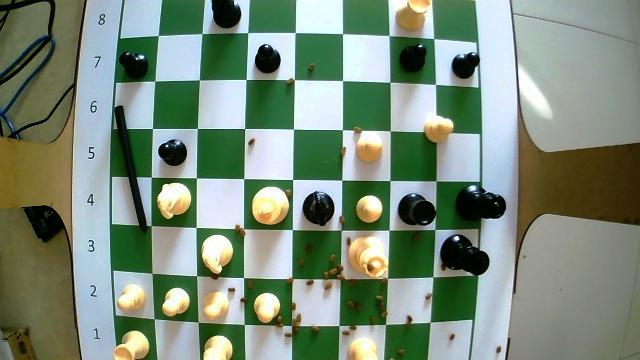piece: (441, 236, 488, 275), (456, 186, 505, 219), (349, 237, 388, 277), (251, 187, 289, 224), (202, 235, 232, 275), (398, 193, 435, 225), (157, 183, 189, 218), (302, 191, 334, 225), (114, 331, 148, 359), (204, 288, 234, 318), (161, 288, 189, 316), (119, 51, 148, 78), (212, 0, 239, 28), (253, 293, 279, 322), (159, 139, 187, 165), (451, 52, 479, 78), (425, 116, 452, 142), (400, 45, 426, 71), (356, 196, 382, 222), (255, 44, 279, 72), (117, 284, 145, 308), (356, 135, 379, 161), (204, 337, 230, 359)
